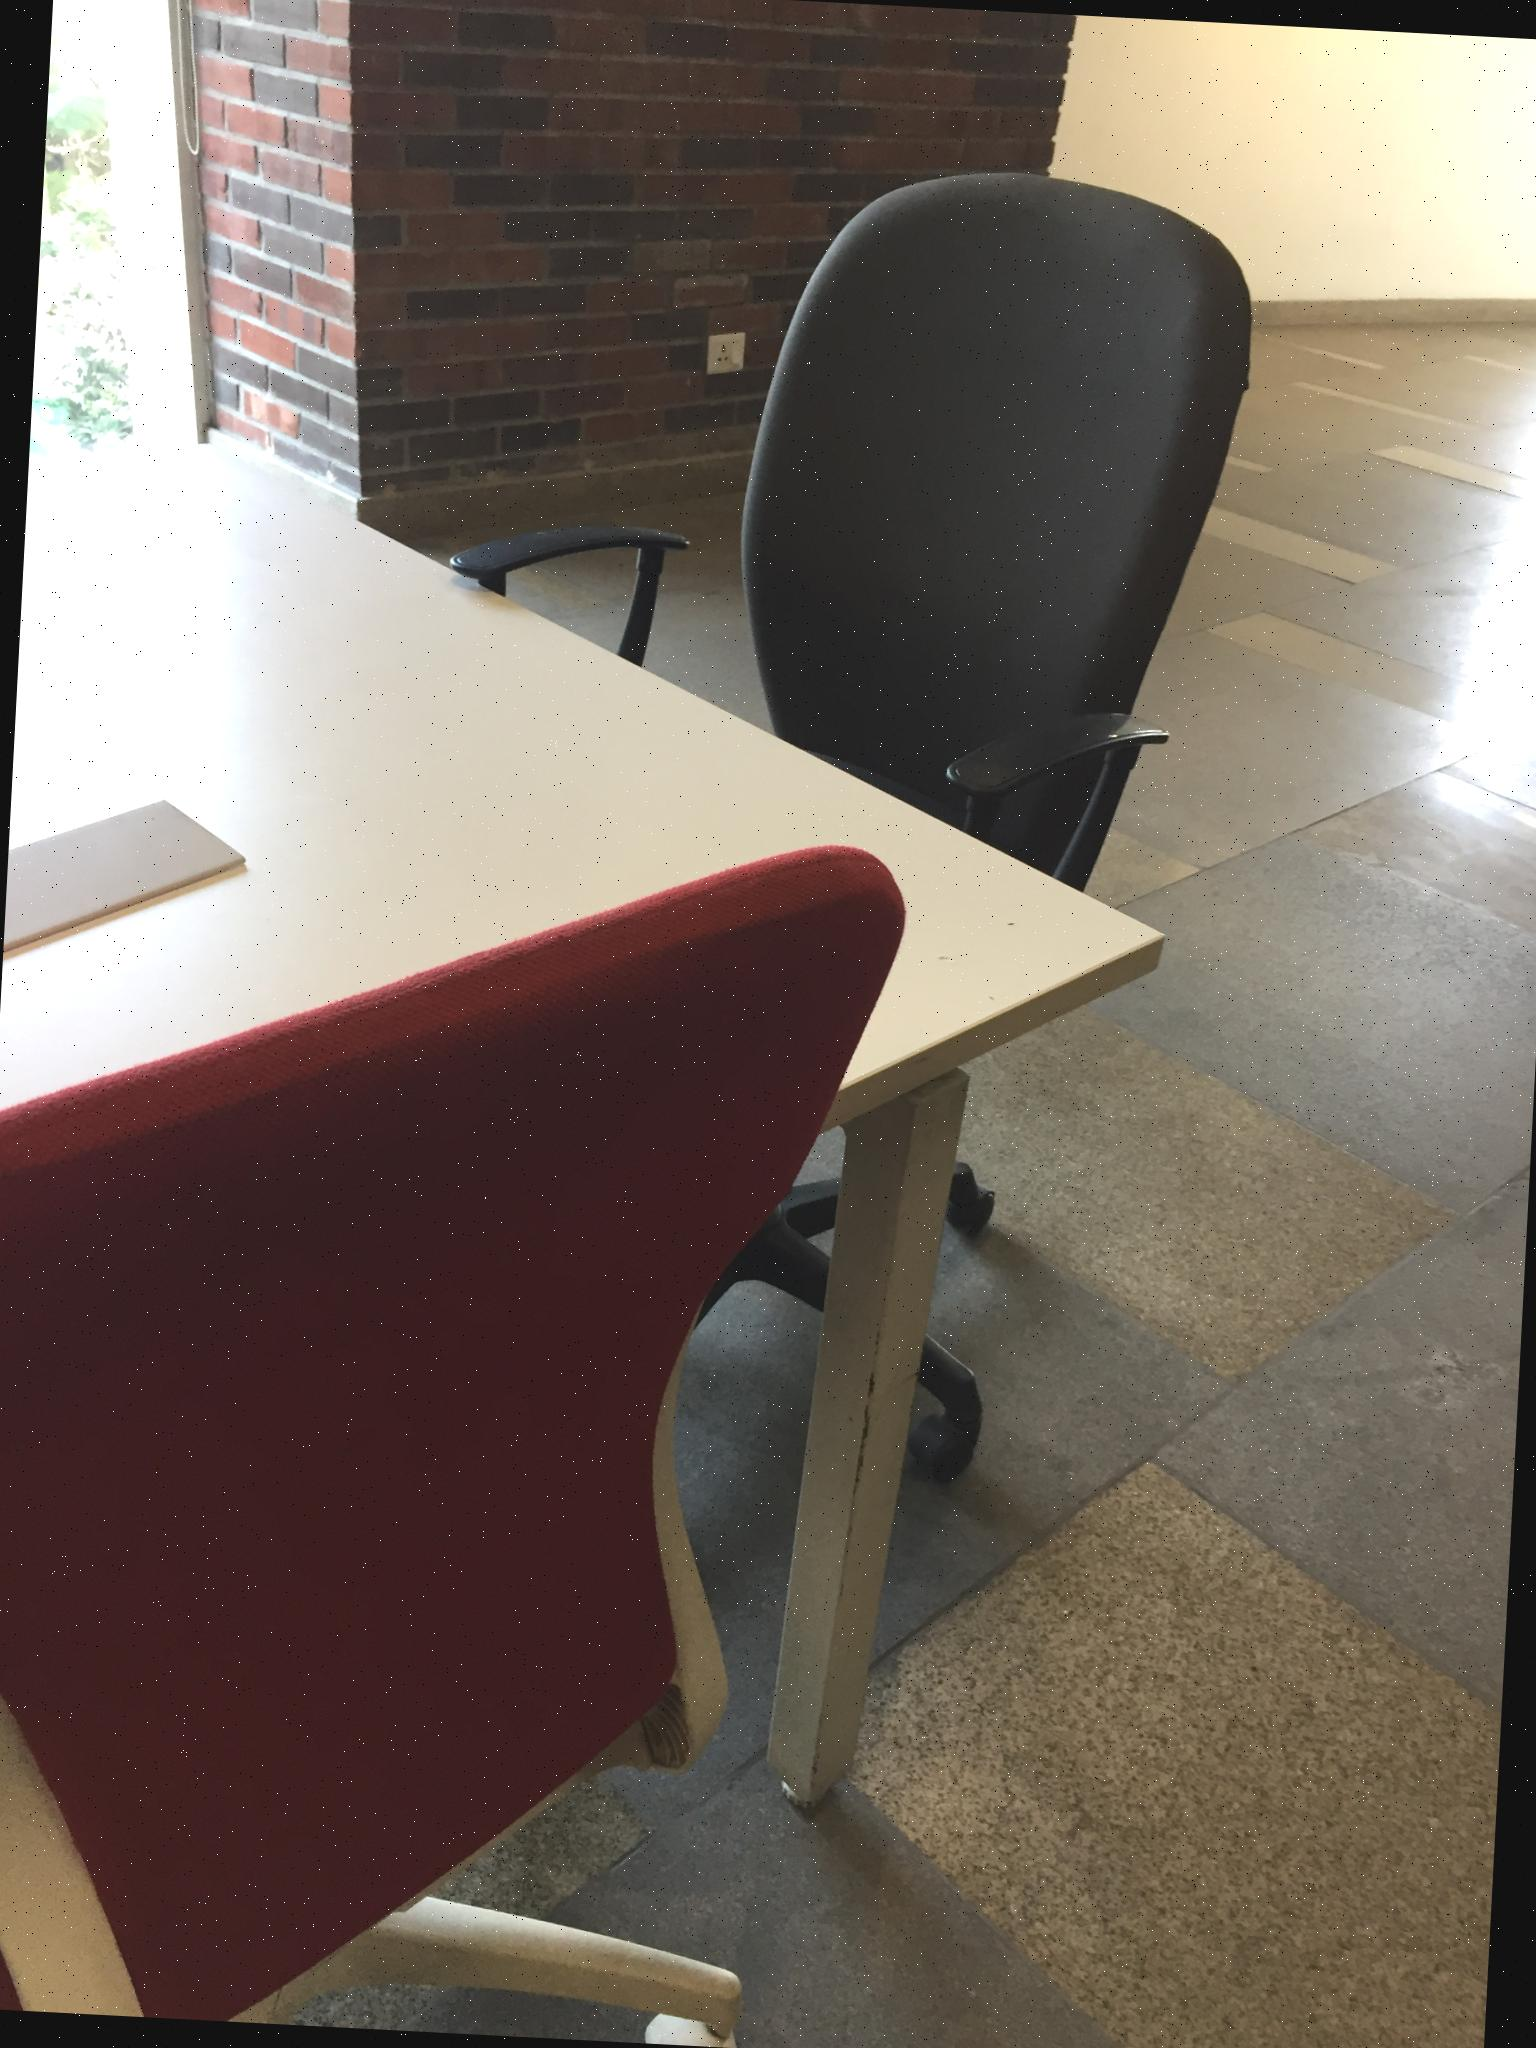chair: (387, 127, 1257, 1471), (0, 797, 912, 2048)
